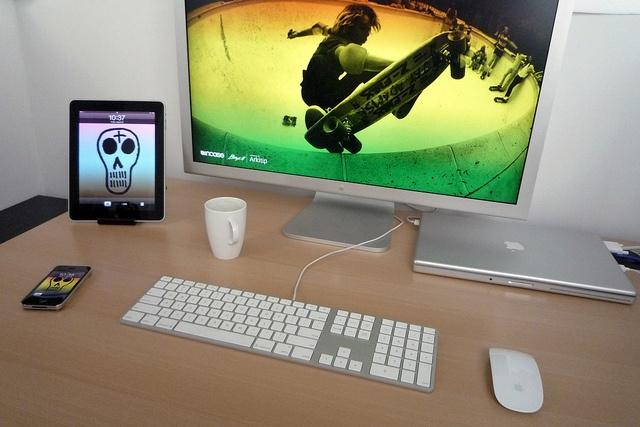AIO PC-Monitor-TV: (173, 0, 575, 221)
